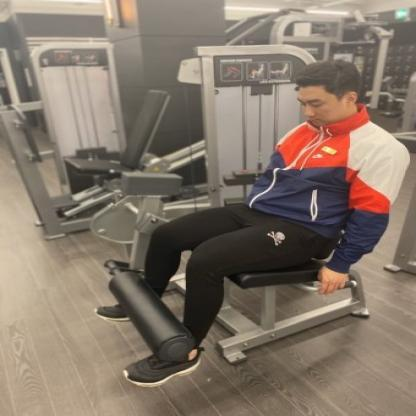leg extension: (59, 35, 416, 398)
